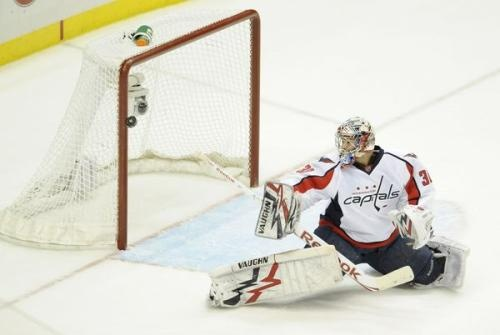falling: (264, 106, 457, 300)
